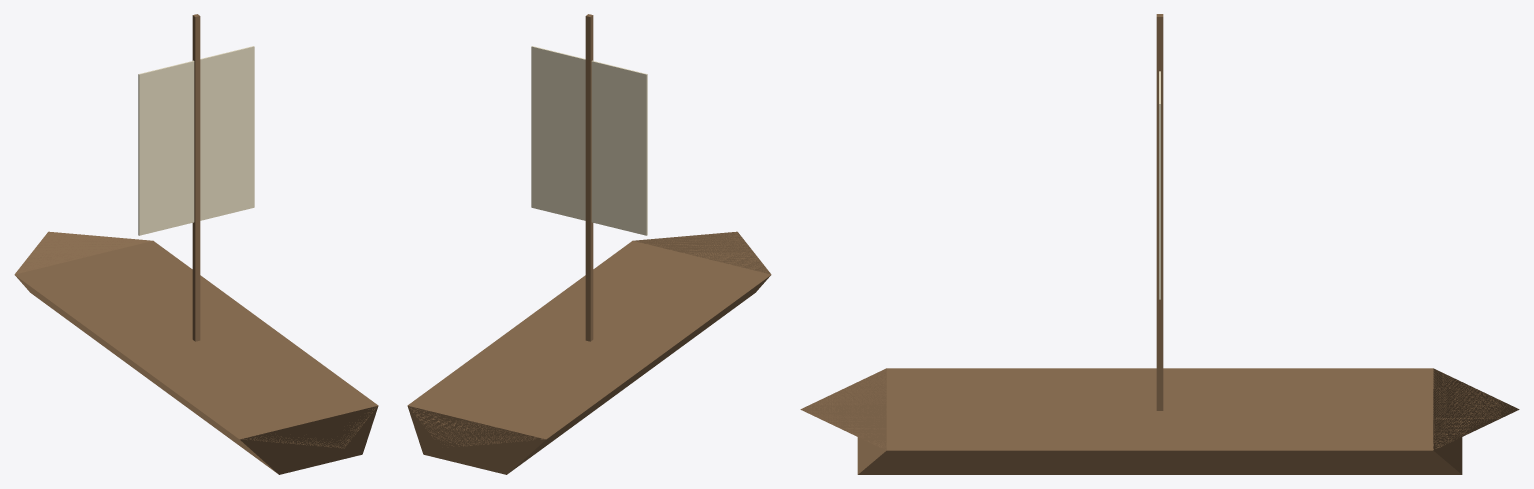
The model's file is block_ship.glb.
3 renders of one model, left to right at view 1: azimuth 30°, elevation 25°; view 2: azimuth 150°, elevation 25°; view 3: azimuth 270°, elevation 25°, orthographic. The views are drawn at different scales.
Visible parts, largest first — view 1: HullEnvelope, SailEnvelope, MastEnvelope; view 2: HullEnvelope, SailEnvelope, MastEnvelope; view 3: HullEnvelope, MastEnvelope.
Boxes of the visible parts, x1,y1,x2,y2 form: HullEnvelope: (14,231,378,474); SailEnvelope: (138,46,254,235); MastEnvelope: (192,14,200,341); HullEnvelope: (407,231,771,474); SailEnvelope: (531,46,647,235); MastEnvelope: (585,14,593,341); HullEnvelope: (800,368,1519,474); MastEnvelope: (1156,14,1163,410).
Size of the model in its own units: 13 by 32 by 48.
